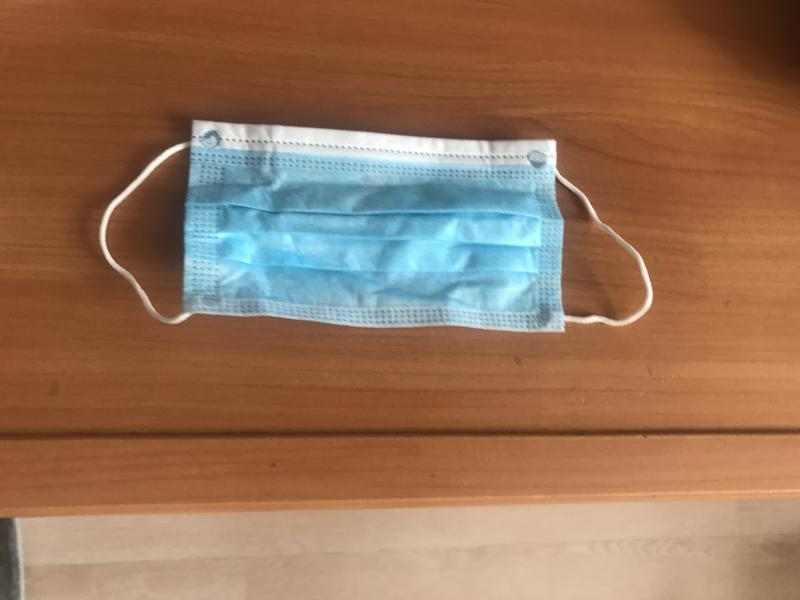medical_mask: (103, 119, 653, 334)
